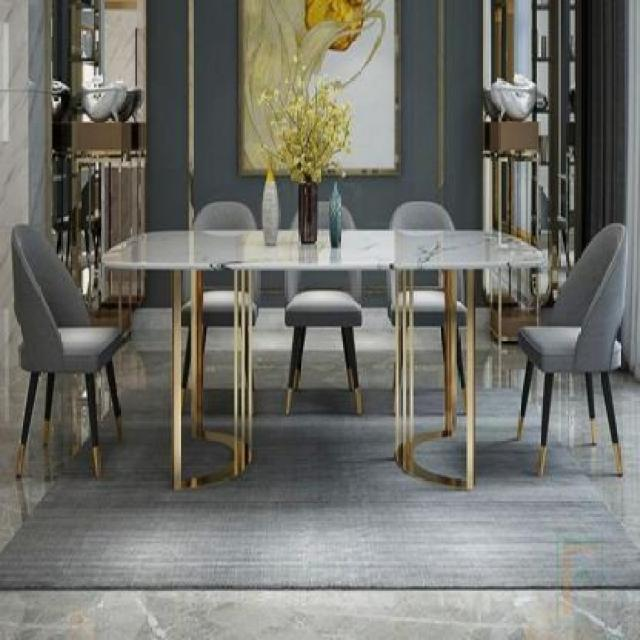tables: (100, 226, 546, 491)
